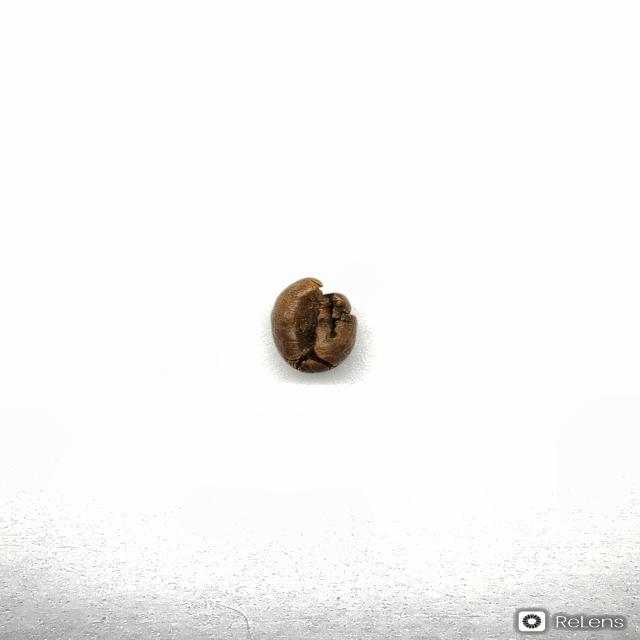Insect damage: (269, 276, 358, 374)
